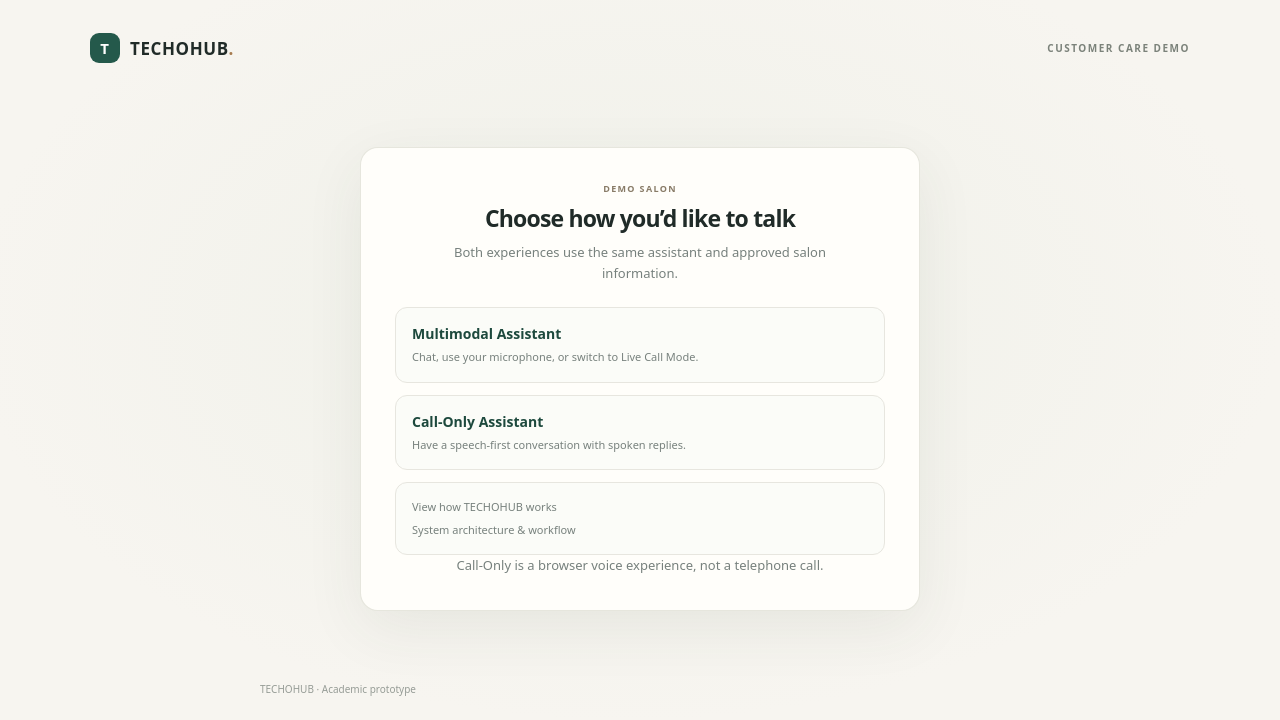
browser text chat › submits a selected service through the existing session message API
Click the button "Multimodal Assistant" at (487, 334), box [395,307,885,383]
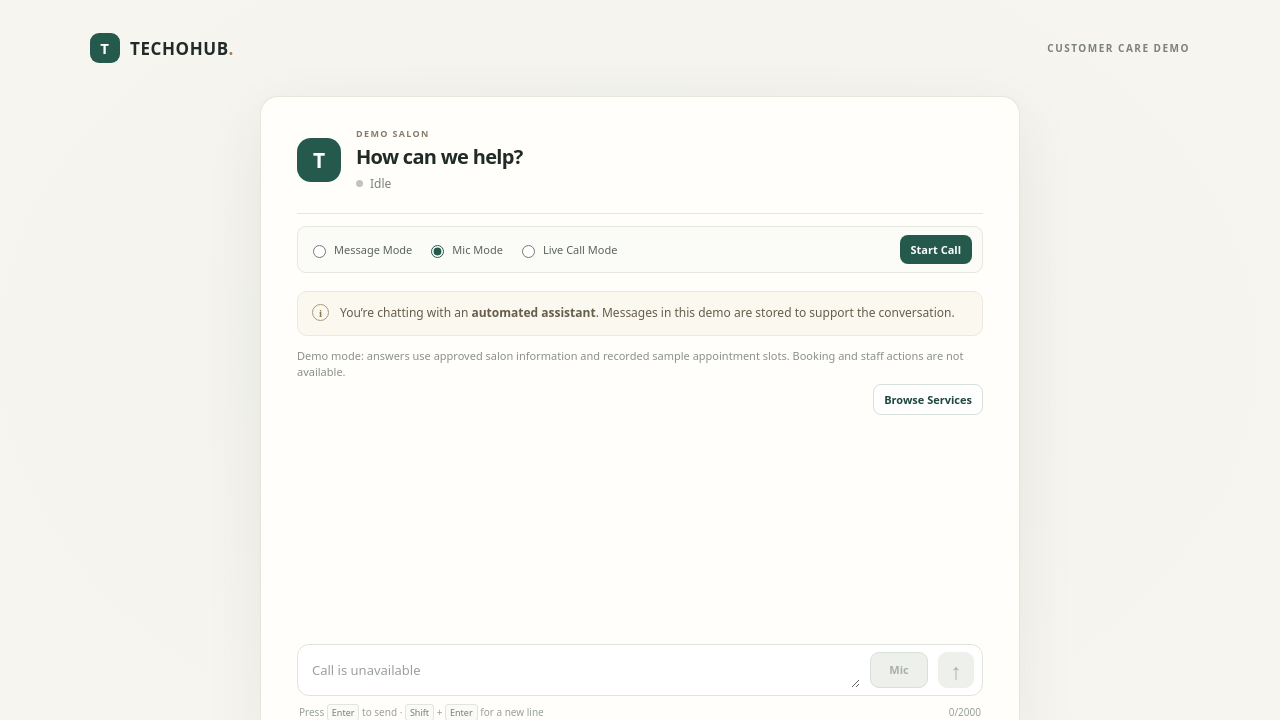
Click the button "Start Call" at (936, 250), box [900,235,972,264]
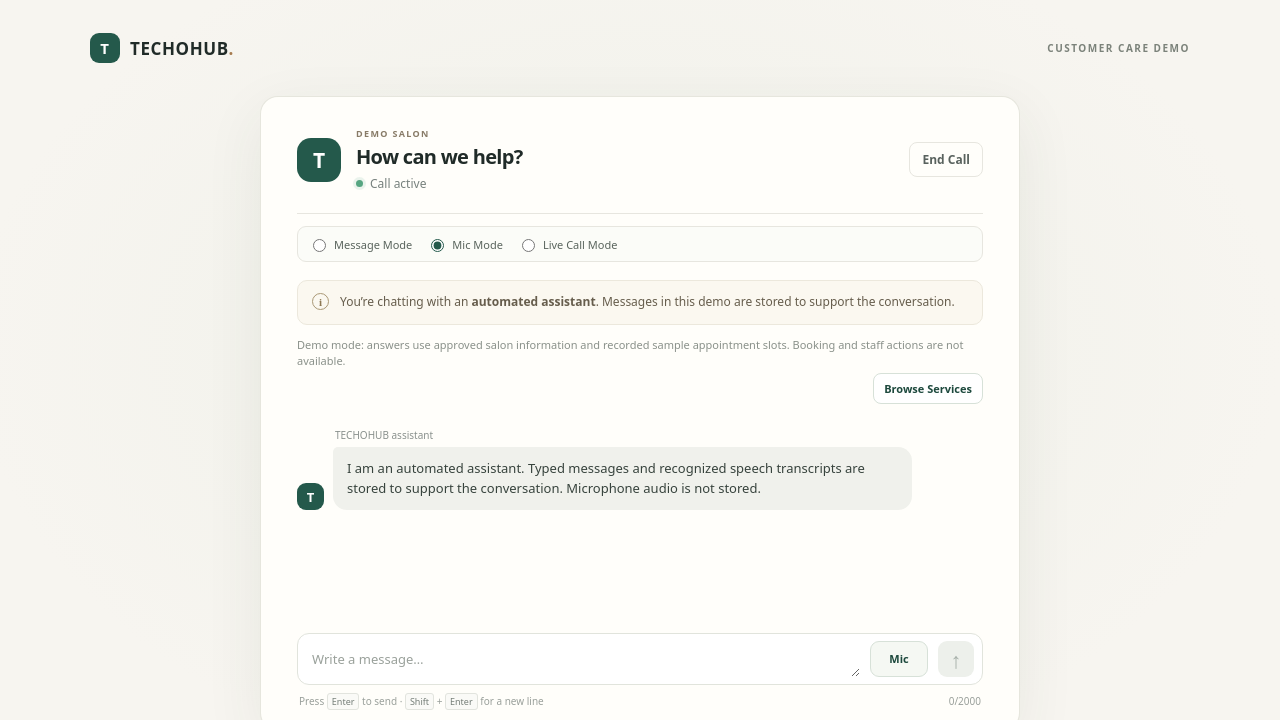
Check: the button "End Call" is shown, box [910,142,983,177]
Check: the text box named "Your message" is enabled, box [312,643,860,677]
Click the button "Browse Services" at (928, 388), box [873,373,983,404]
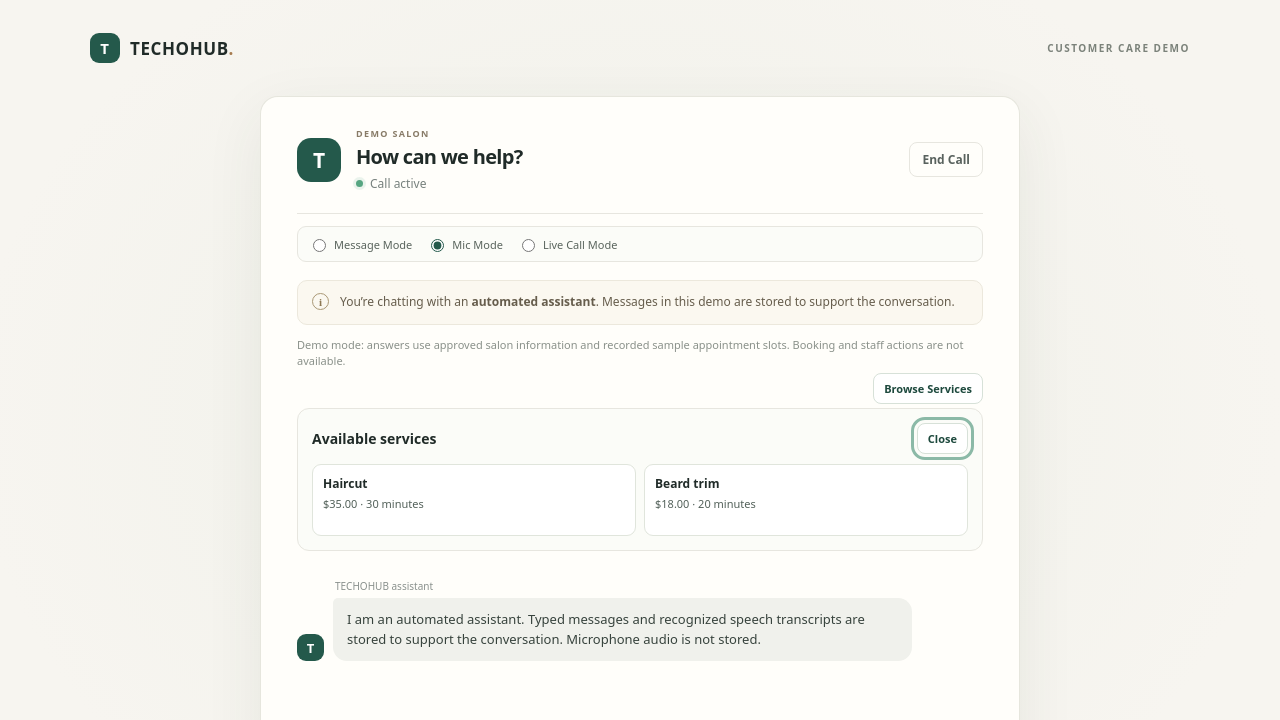
Click the button "Haircut $35.00 · 30 minutes" at (345, 483), box [312,464,636,536]
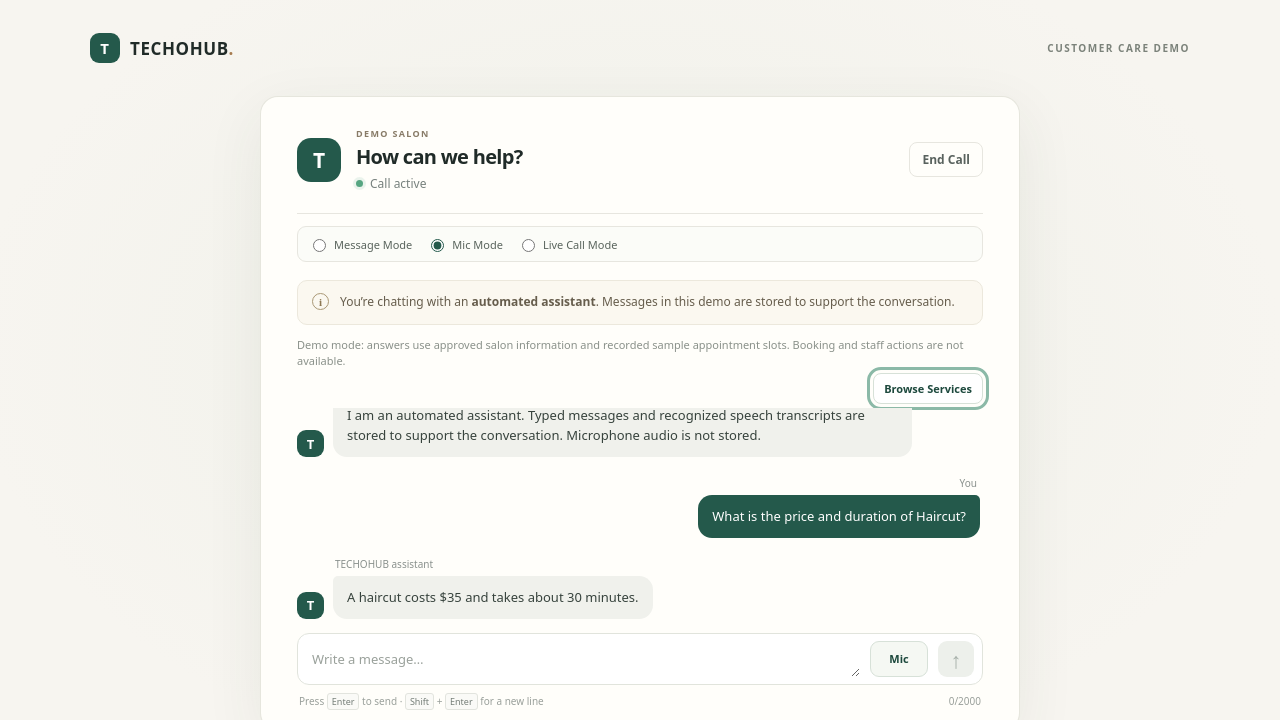
Check: the text "What is the price and duration of Haircut?" is shown, box [698,495,980,538]
Check: the text "A haircut costs $35 and takes about 30 minutes." is shown, box [333,576,652,619]
Check: the heading "Available services" is gone
